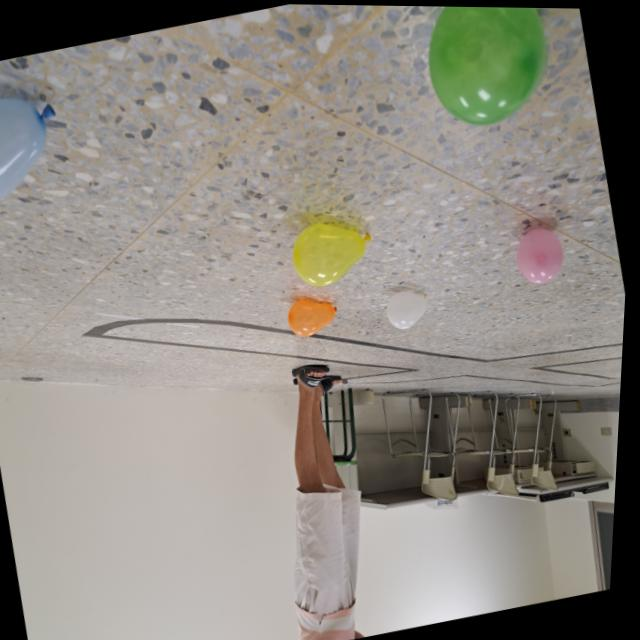other: (409, 5, 559, 135), (0, 78, 74, 209), (288, 212, 380, 292), (512, 222, 571, 287), (285, 289, 346, 341), (385, 285, 437, 331)
